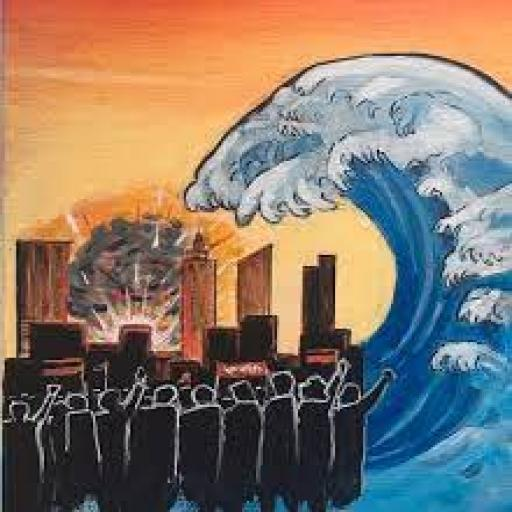person: (337, 360, 391, 512), (177, 378, 228, 512), (125, 387, 176, 508), (227, 374, 269, 512), (268, 363, 306, 512), (60, 388, 104, 506), (0, 395, 44, 512), (298, 371, 333, 512)
